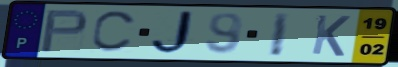9: (205, 12, 246, 56)
C: (89, 10, 140, 55)
I: (267, 11, 293, 58)
J: (149, 9, 201, 57)
K: (309, 13, 353, 59)
P: (37, 8, 90, 54)
